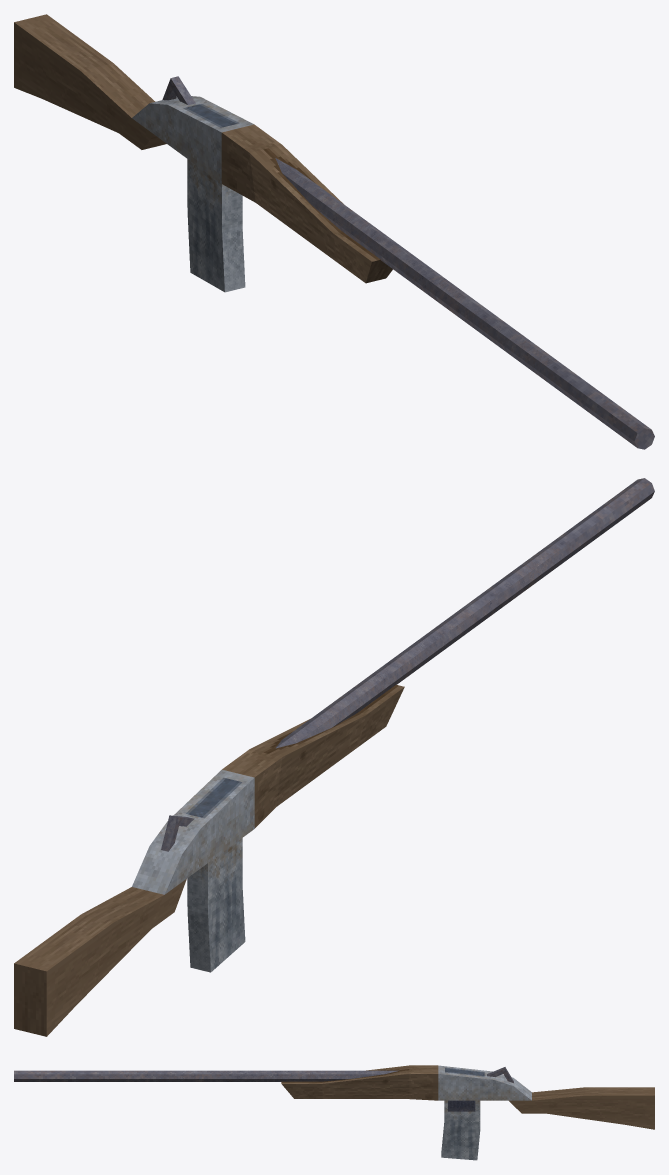
File: Gun.glb
3 views of the same model, one above another, from view 1: azimuth 30°, elevation 25°; view 2: azimuth 150°, elevation 25°; view 3: azimuth 270°, elevation 25° (orthographic). The views are drawn at different scales.
Parts seen in each view (by area): view 1: Stock, Handle, Barrel_STD, Magazine, Barrel_LONG, FM_STD, Barrel_SHORT; view 2: Stock, FM_STD, Handle, Barrel_LONG, Magazine, Barrel_STD, Barrel_SHORT; view 3: Stock, Handle, Barrel_STD, FM_STD, Barrel_LONG, Magazine, Barrel_SHORT, Clip, AS.
Boxes of the visible parts, x1,y1,x2,y2 form: Stock: [14, 14, 166, 149]; Handle: [221, 124, 392, 283]; Barrel_STD: [276, 158, 560, 381]; Magazine: [187, 159, 245, 292]; Barrel_LONG: [276, 160, 654, 449]; FM_STD: [132, 96, 254, 183]; Barrel_SHORT: [275, 158, 464, 307]; Stock: [14, 879, 186, 1036]; FM_STD: [132, 769, 254, 894]; Handle: [222, 684, 404, 828]; Barrel_LONG: [277, 478, 654, 747]; Magazine: [187, 838, 245, 972]; Barrel_STD: [276, 544, 564, 748]; Barrel_SHORT: [278, 611, 472, 747]; Stock: [509, 1087, 654, 1129]; Handle: [281, 1065, 438, 1100]; Barrel_STD: [108, 1070, 398, 1081]; FM_STD: [438, 1065, 531, 1100]; Barrel_LONG: [14, 1070, 396, 1081]; Magazine: [441, 1100, 480, 1160]; Barrel_SHORT: [204, 1070, 391, 1081]; Clip: [448, 1100, 475, 1111]; AS: [487, 1067, 513, 1082].
Size of the model in its own units: 0.08 by 0.4038 by 2.6.
1 material, 1 textured.
